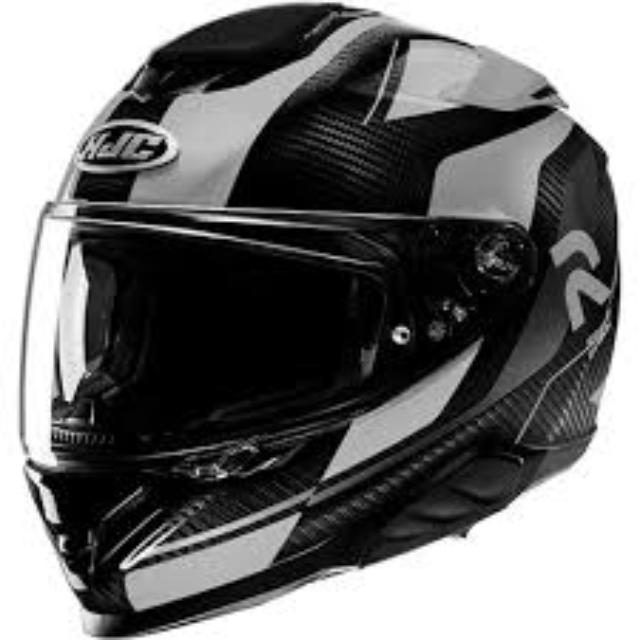motorcycle-helmets: (23, 3, 614, 631)
